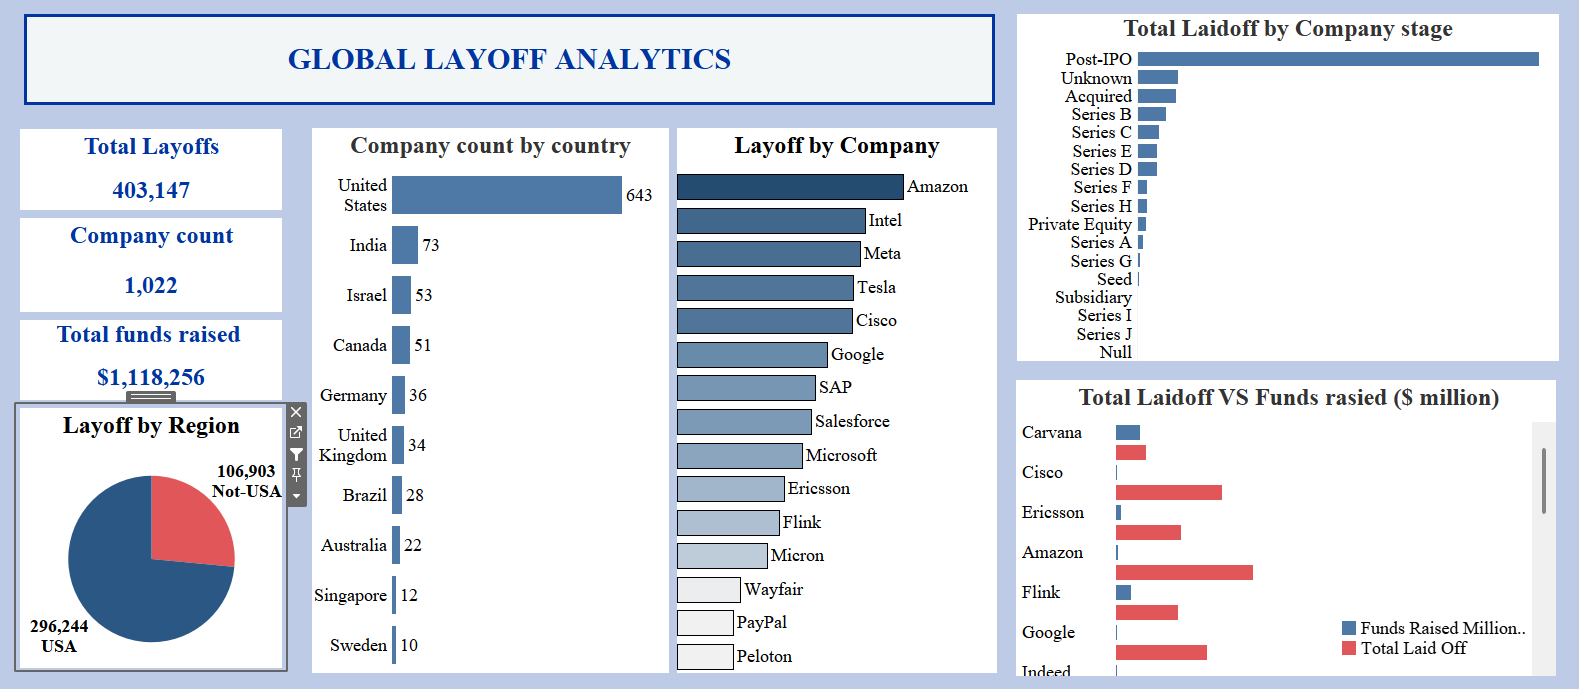

This screenshot's page, from the dashboard's own definition file:
{"tool":"tableau","page":{"name":"Second (Final)","canvas":[1000,1000],"units":"permille","ordinal":1},"visuals":[{"type":"text","box":[12.6,15.9,617.9,143.1]},{"type":"worksheet","title":"Laidoff by company stage","mark":"Automatic","rows":["stage"],"cols":["total_laid_off"],"box":[642.2,21.3,342.2,501.9]},{"type":"worksheet","title":"Company count by country","mark":"Automatic","rows":["country"],"cols":["company"],"box":[194.7,180.6,190.1,799.1]},{"type":"worksheet","title":"Layoff by Company","mark":"Bar","rows":["company"],"cols":["total_laid_off"],"box":[384.8,180.6,247.6,799.1]},{"type":"worksheet","title":"Total Laidoffs","mark":"Automatic","box":[9.9,182.1,170.9,82.4]},{"type":"worksheet","title":"company","mark":"Text","box":[9.9,264.5,170.9,94.5]},{"type":"worksheet","title":"Total Funds raised","mark":"Automatic","box":[9.9,358.9,170.9,81.5]},{"type":"worksheet","title":"Layoff by Region","mark":"Pie","box":[9.9,440.4,170.9,532.1]},{"type":"worksheet","title":"Funds rasied VS Total Laidoff","mark":"Automatic","rows":["company"],"box":[641.3,550.6,340.9,427.8]},{"type":"legend","title":"Funds rasied VS Total Laidoff","param":"[federated.1p9ztxb1jo8dkp13gholg130fsgb].[:Measure Names]","box":[845,894.5,120.5,70.8]}]}

Visuals, with their boxes on the dashboard's canvas, which has no fixed pixel size, in thousandths of its width and height (x1, y1, x2, y2). These are canvas units, not pixel positions in the 1579x689 screenshot, which may show the page scaled, cropped or inside an application window:
text: l=13, t=16, r=630, b=159
"Laidoff by company stage" worksheet: l=642, t=21, r=984, b=523
"Company count by country" worksheet: l=195, t=181, r=385, b=980
"Layoff by Company" worksheet (Bar marks): l=385, t=181, r=632, b=980
"Total Laidoffs" worksheet: l=10, t=182, r=181, b=264
"company" worksheet (Text marks): l=10, t=264, r=181, b=359
"Total Funds raised" worksheet: l=10, t=359, r=181, b=440
"Layoff by Region" worksheet (Pie marks): l=10, t=440, r=181, b=972
"Funds rasied VS Total Laidoff" worksheet: l=641, t=551, r=982, b=978
"Funds rasied VS Total Laidoff" legend: l=845, t=894, r=966, b=965
